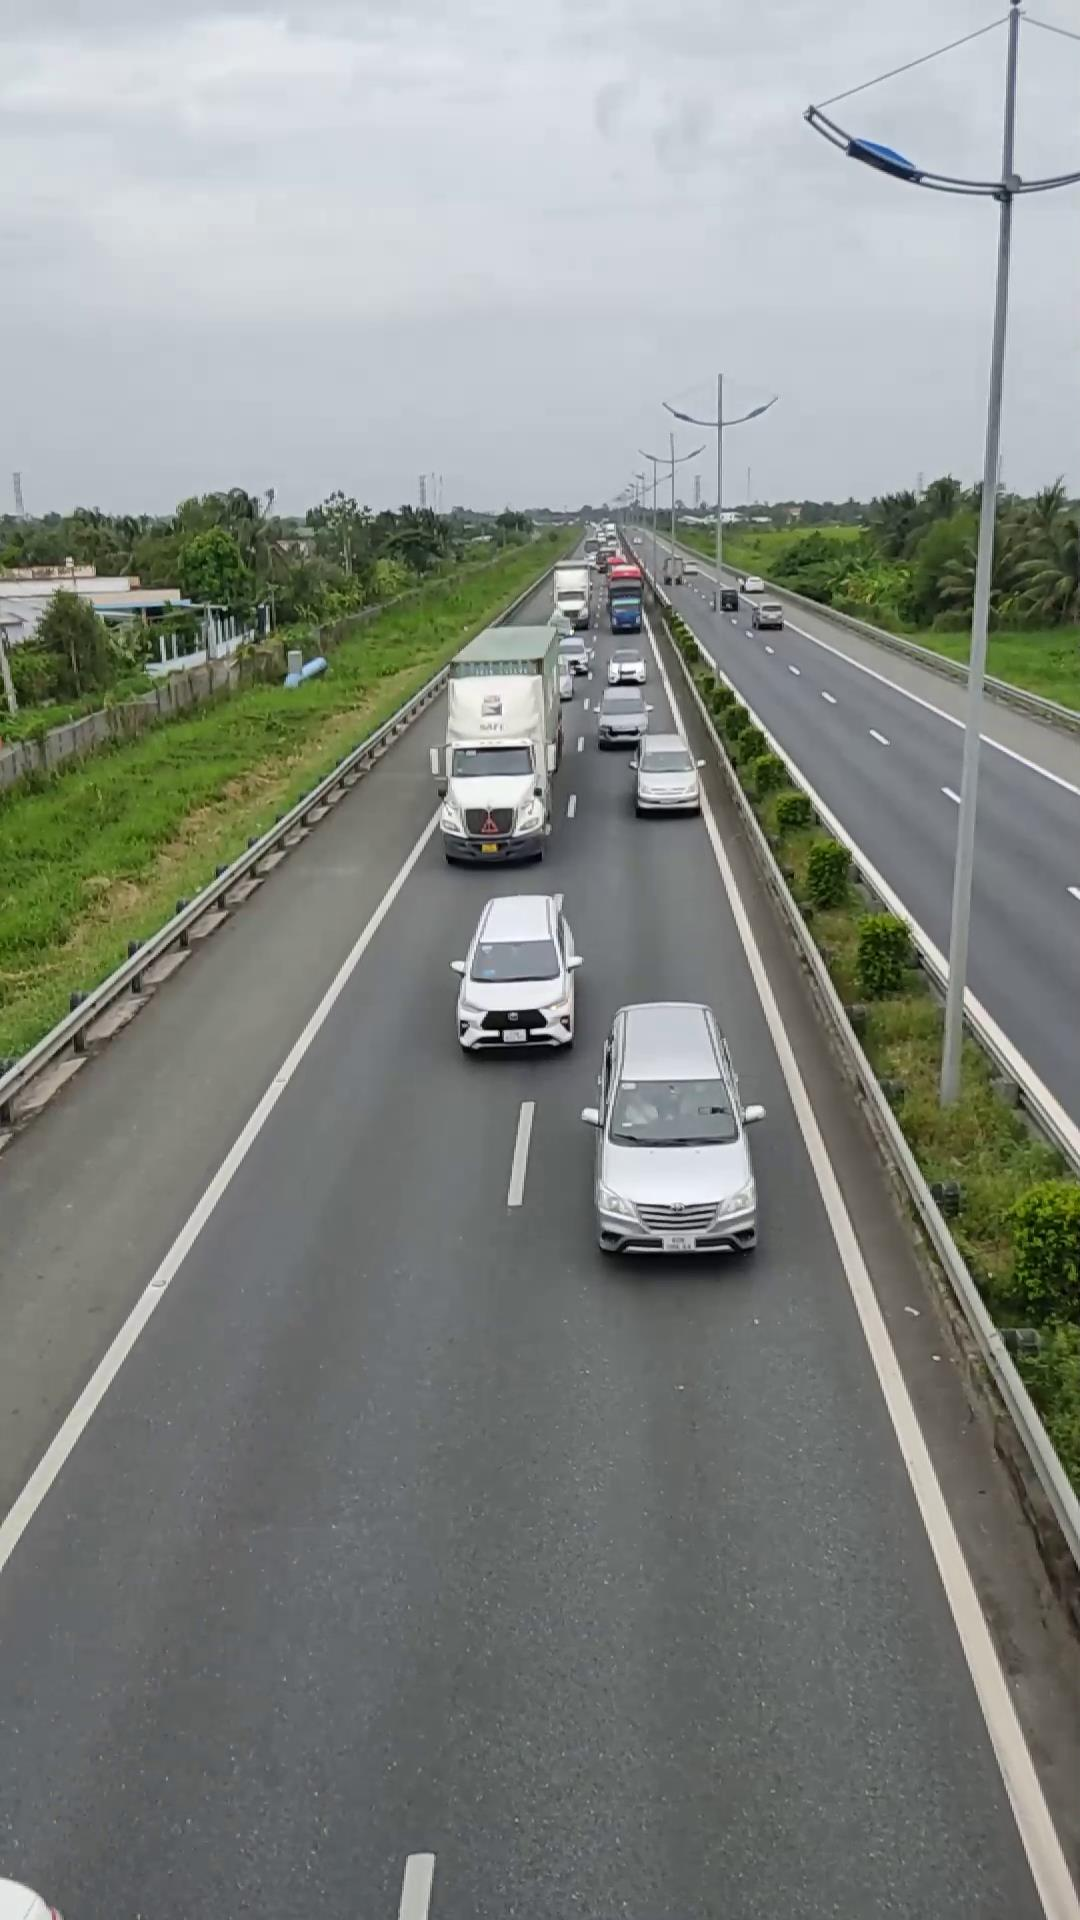car: (585, 998, 762, 1259), (451, 891, 583, 1054), (632, 733, 704, 815)
container: (434, 622, 567, 865)
